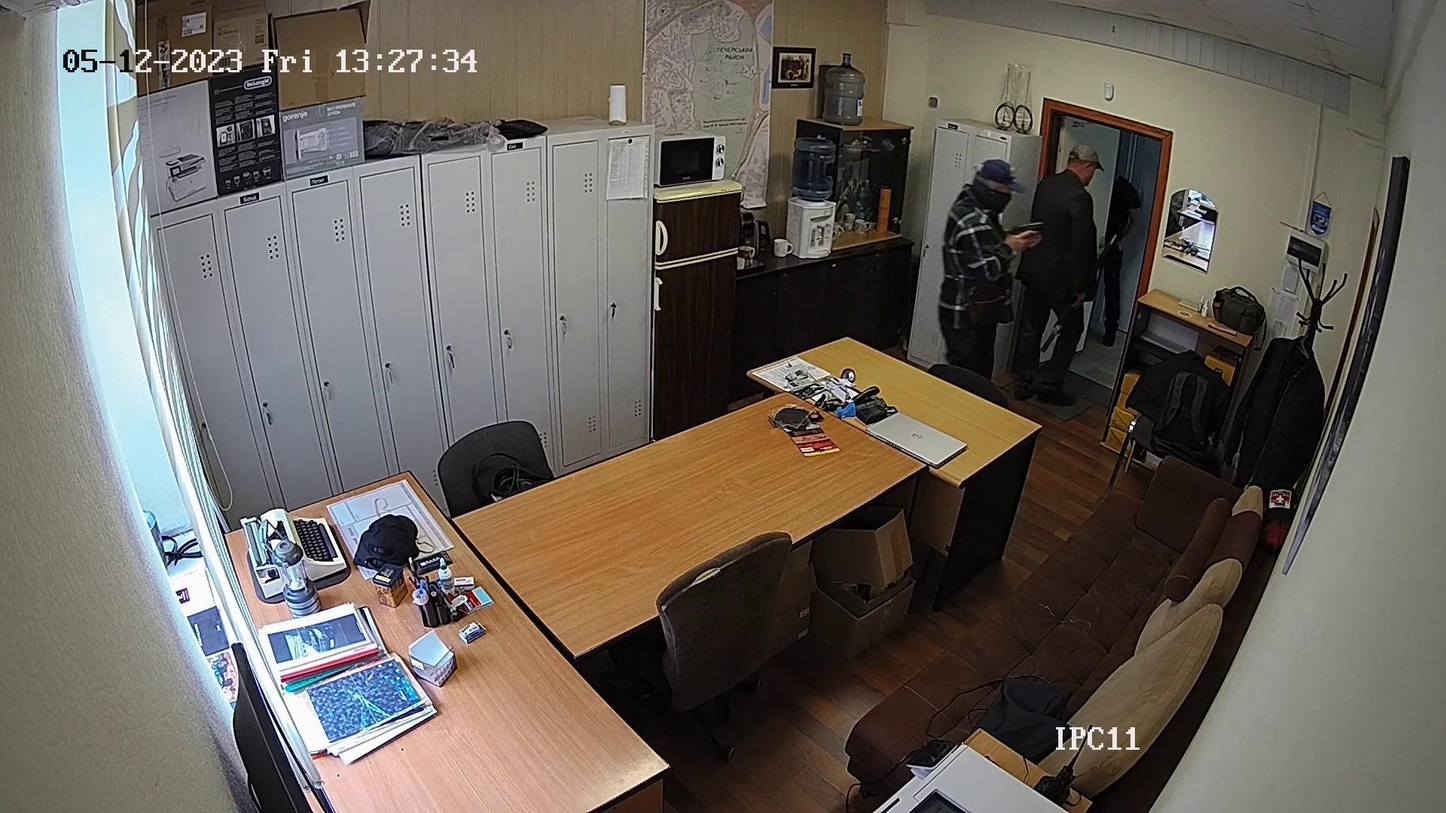person: (1009, 142, 1108, 409), (936, 157, 1044, 380), (1100, 165, 1145, 349)
pistol: (1007, 220, 1045, 239)
